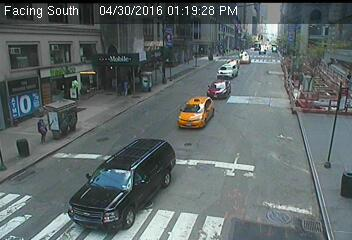neg: (125, 160, 155, 199), (63, 66, 91, 103), (277, 153, 305, 190), (232, 97, 259, 132), (292, 87, 317, 120), (15, 165, 40, 198), (13, 56, 37, 89), (200, 156, 224, 188), (159, 36, 181, 66), (169, 95, 191, 124), (108, 58, 128, 85), (233, 39, 253, 66), (90, 171, 109, 196), (267, 203, 286, 227), (267, 35, 285, 58), (216, 80, 229, 98)
pos: (31, 115, 51, 142)
